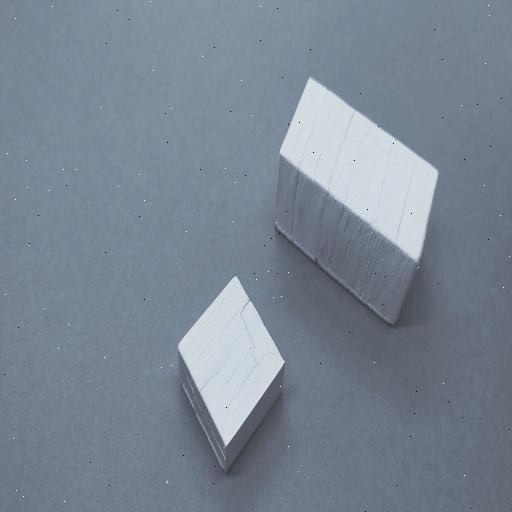cracks: (324, 99, 362, 205), (233, 290, 271, 364)
